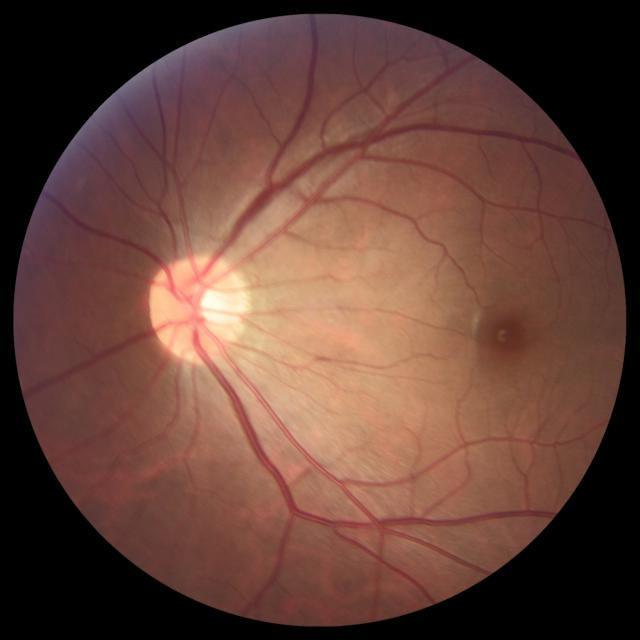OC: (190, 284, 230, 326)
OD: (150, 253, 250, 361)
